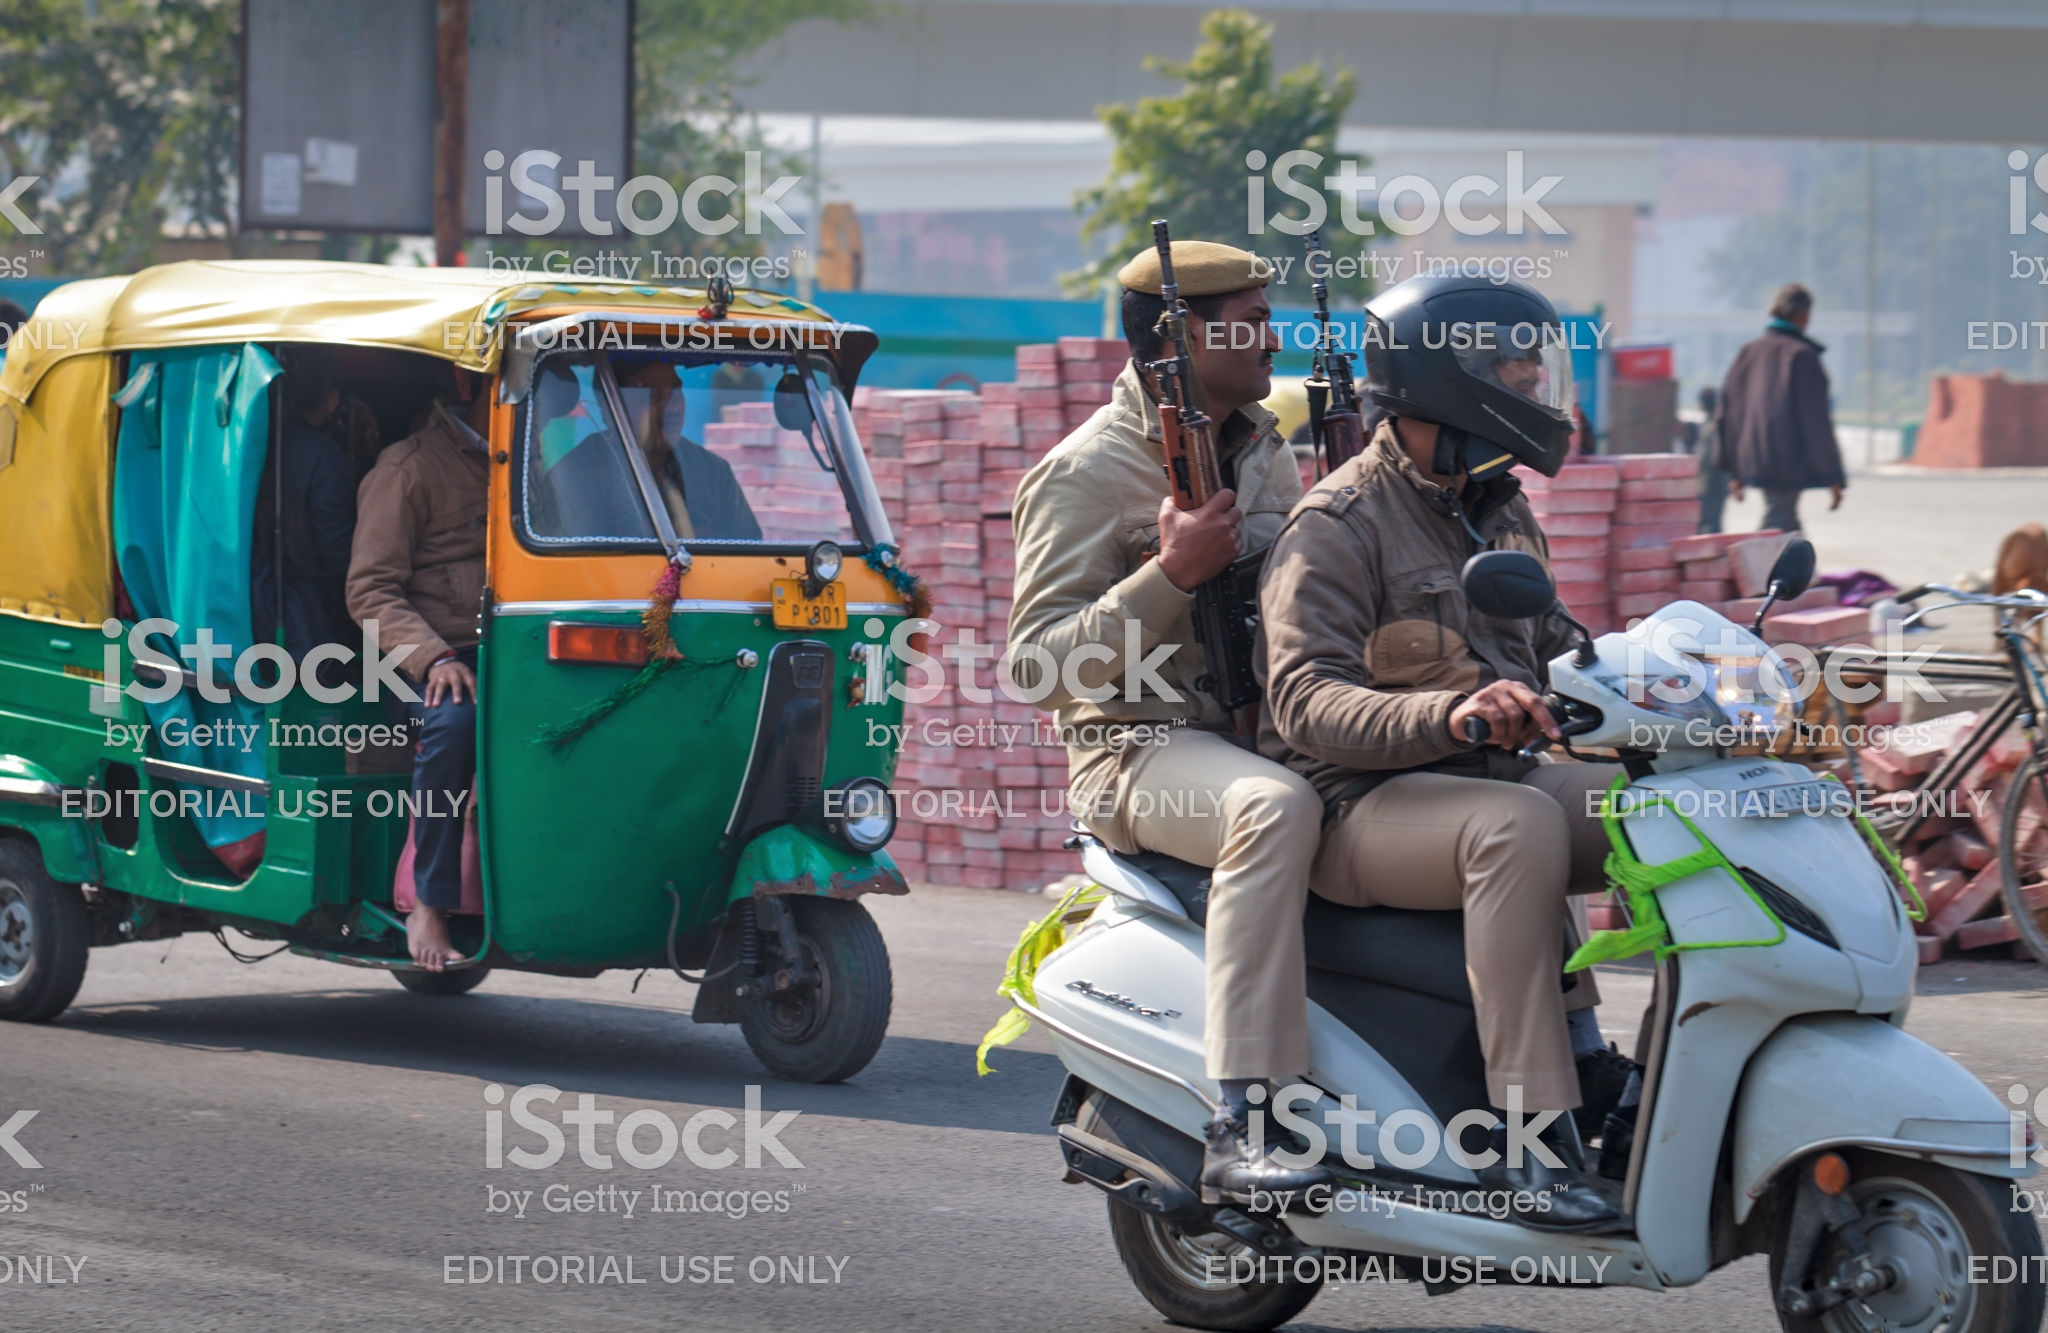helmet: (1354, 246, 1575, 475)
